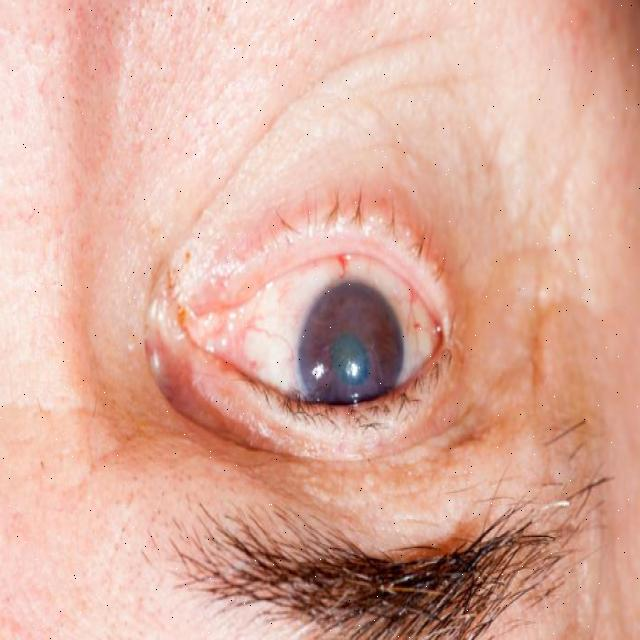Cataract: (296, 276, 406, 438)
